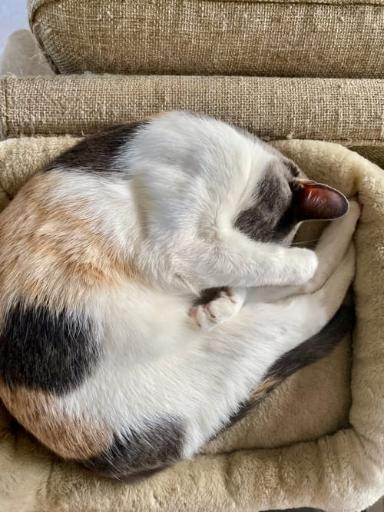cat_sleeping: (0, 111, 359, 479)
